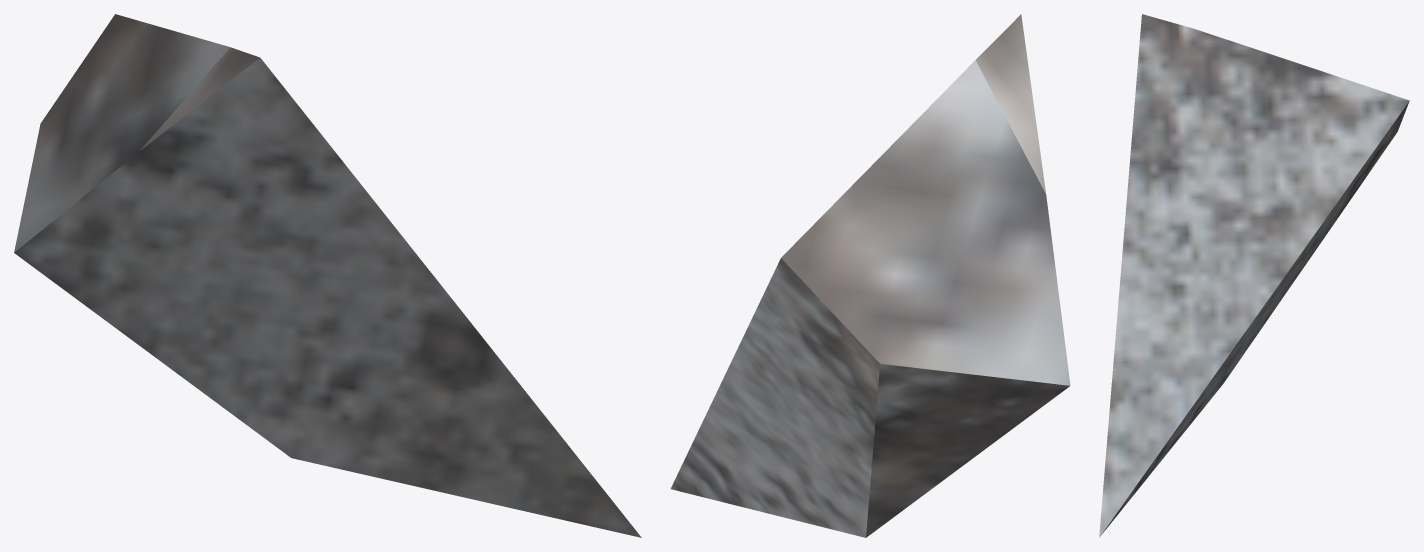
File: Asteroid_Medium_001_02_003_03_006.fbx
3 views of the same model, side by side, from view 1: azimuth 30°, elevation 25°; view 2: azimuth 150°, elevation 25°; view 3: azimuth 270°, elevation 25° (orthographic). The views are drawn at different scales.
Visible parts, largest first — view 1: Asteroid_Medium_001_02_003_03_006; view 2: Asteroid_Medium_001_02_003_03_006; view 3: Asteroid_Medium_001_02_003_03_006.
Part boxes in pixels (<box>): Asteroid_Medium_001_02_003_03_006: <box>14,14,641,537</box>; Asteroid_Medium_001_02_003_03_006: <box>670,14,1070,537</box>; Asteroid_Medium_001_02_003_03_006: <box>1099,14,1409,537</box>.
Bounding box in the file's own units: 2.75 × 2.87 × 2.03.
